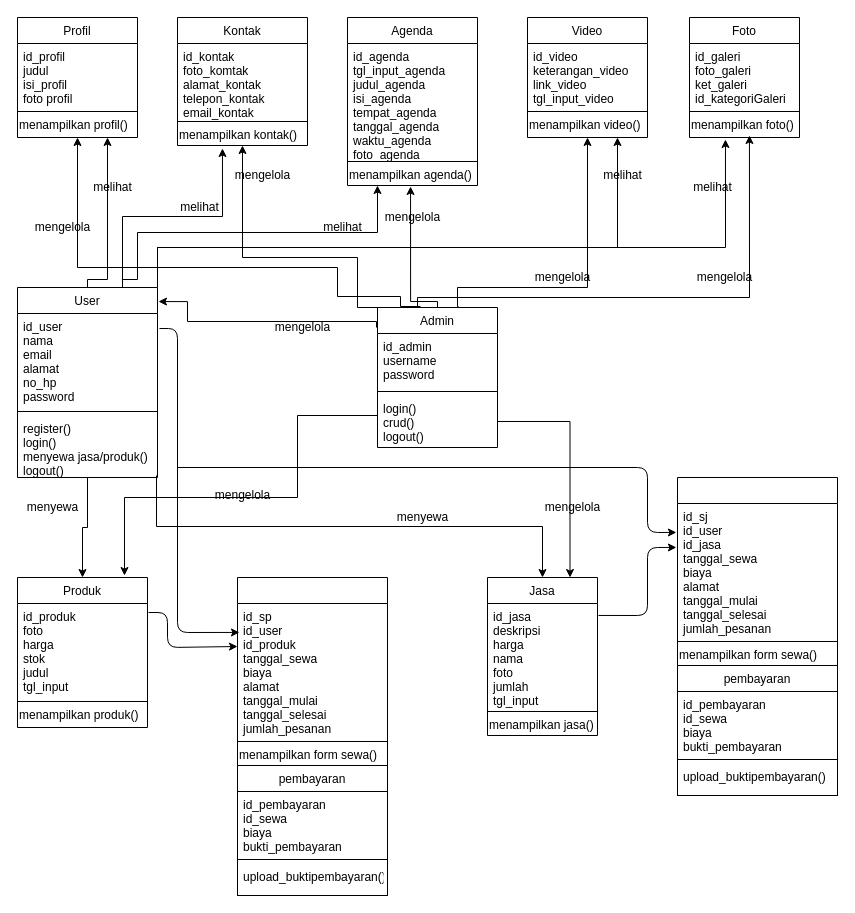
Some shapes in this 855 by 913 pixel diagram are drawn without their labels. The shapes that lost their labels are listed below. From the top down, each one's box as (x1, y1, x2, y2) in pixels, then its label:
(676, 476, 838, 796): Sewa jasa
(236, 576, 388, 896): Sewa produk
